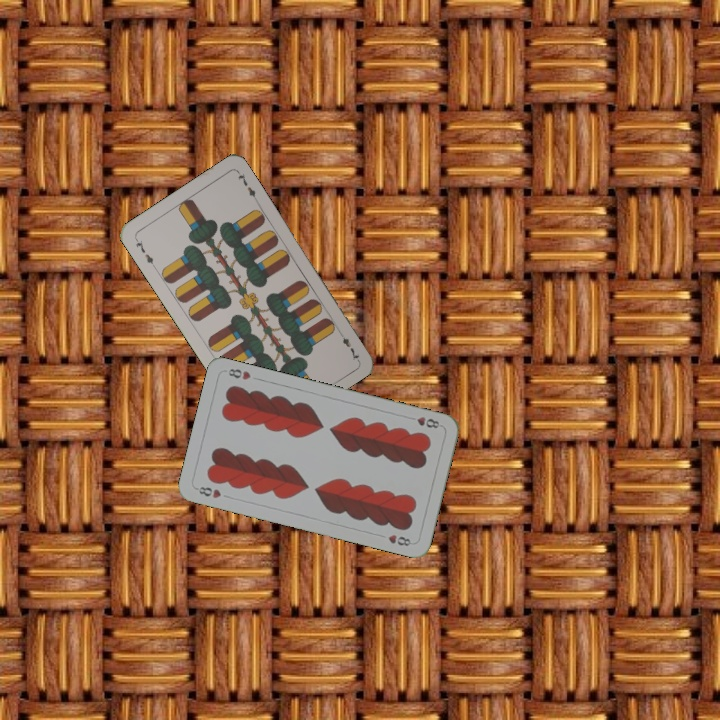E7: (131, 234, 158, 271), (334, 326, 361, 363)
H8: (404, 413, 442, 431), (192, 482, 224, 501)
